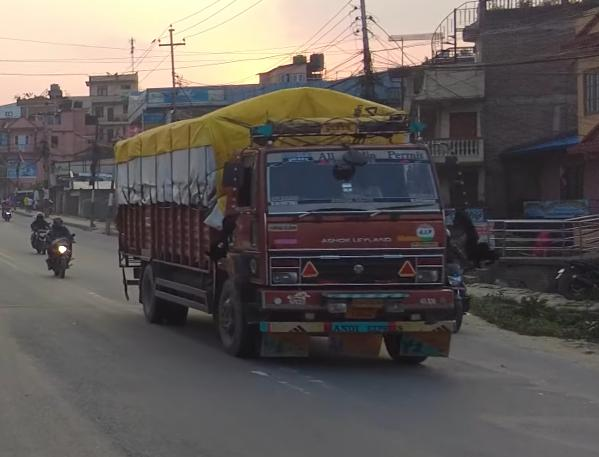bike: (47, 236, 75, 281), (29, 225, 51, 256)
truck: (112, 85, 471, 364)
